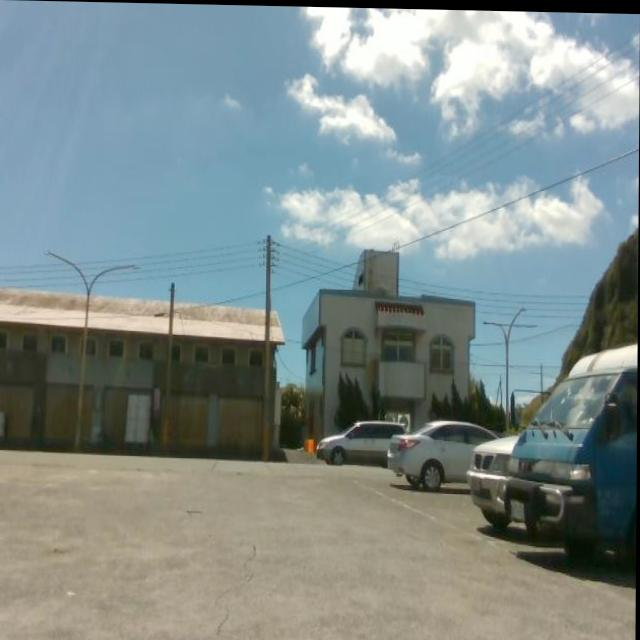pollute: (302, 434, 315, 453)
